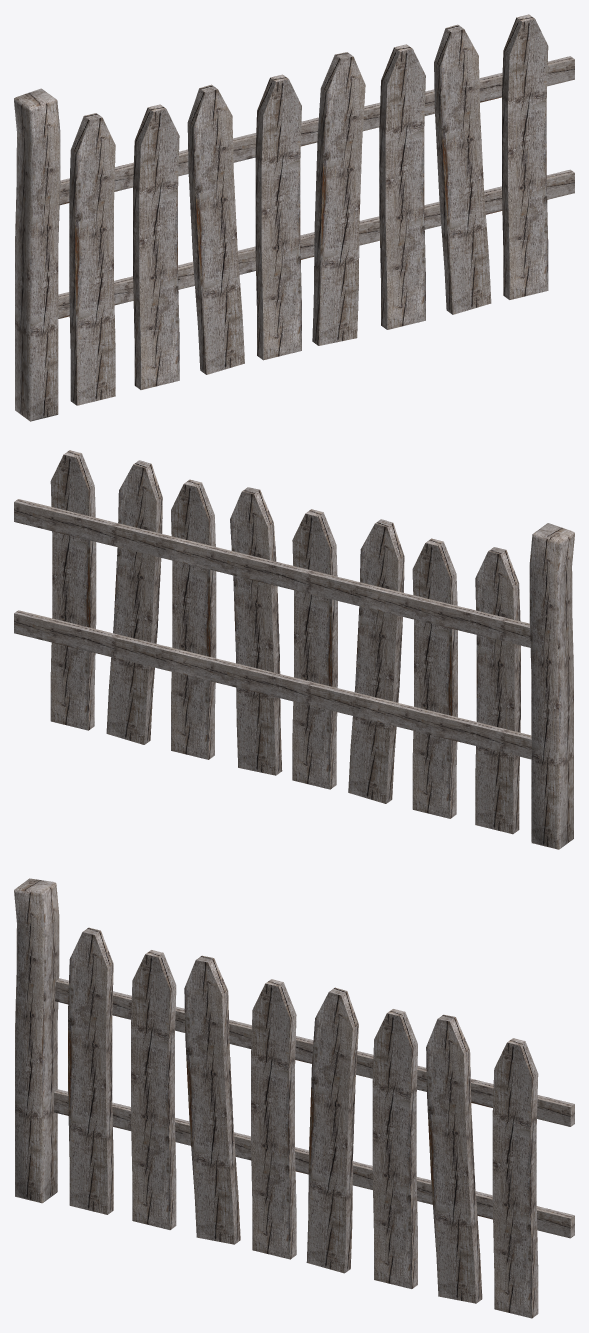
File: fence.fbx
3 renders of one model, top to bottom at view 1: azimuth 30°, elevation 25°; view 2: azimuth 150°, elevation 25°; view 3: azimuth 330°, elevation 25°, orthographic.
Parts seen in each view (by area): view 1: Mesh; view 2: Mesh; view 3: Mesh.
Part boxes in pixels (left/top/right/bottom): Mesh: left=14, top=14, right=574, bottom=421; Mesh: left=14, top=450, right=574, bottom=849; Mesh: left=14, top=878, right=574, bottom=1318.
Size of the model in its own units: 720 by 392 by 37.
